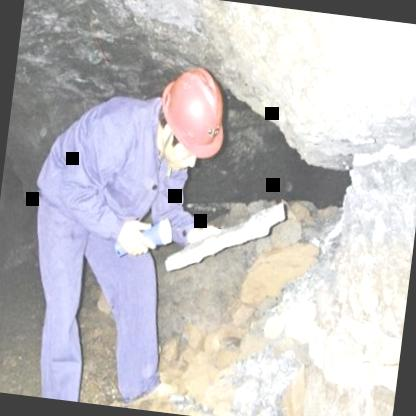helmet: (142, 54, 238, 185)
